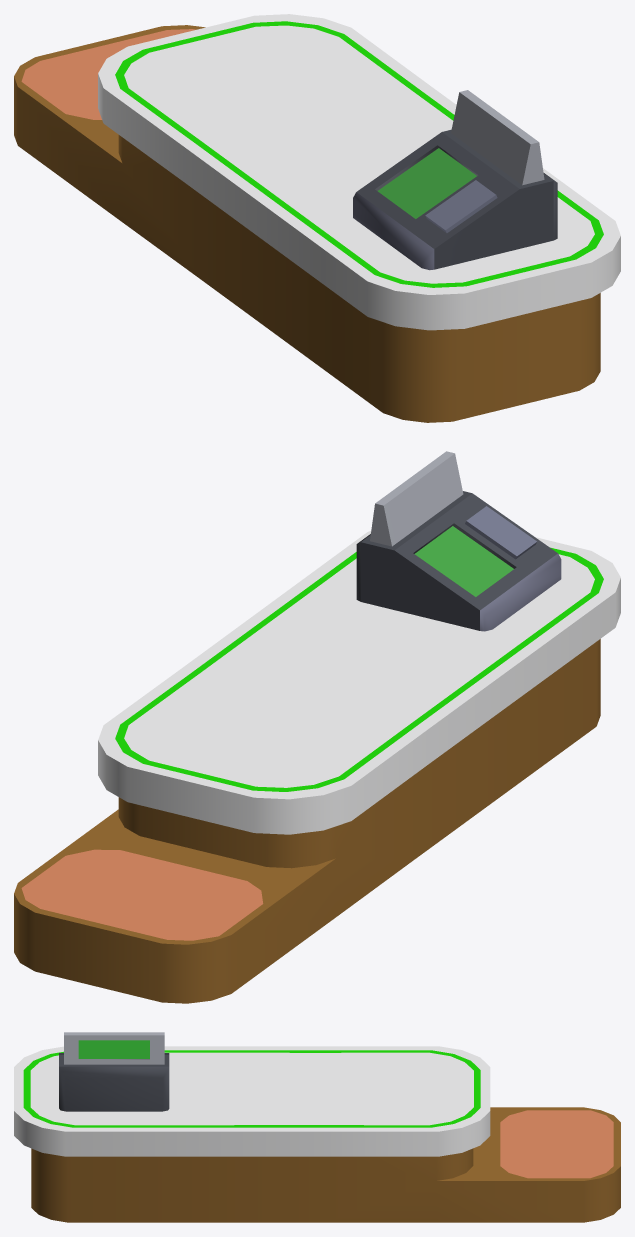
File: NF_Floor_Counter_A.fbx
3 views of the same model, one above another, from view 1: azimuth 30°, elevation 25°; view 2: azimuth 150°, elevation 25°; view 3: azimuth 270°, elevation 25° (orthographic). The views are drawn at different scales.
Visible parts, largest first — view 1: NF_Floor_Counter_A; view 2: NF_Floor_Counter_A; view 3: NF_Floor_Counter_A.
Boxes of the visible parts, x1=… form: NF_Floor_Counter_A: x1=14, y1=14, x2=620, y2=422; NF_Floor_Counter_A: x1=14, y1=451, x2=620, y2=1003; NF_Floor_Counter_A: x1=14, y1=1032, x2=620, y2=1222.
Bounding box in the file's own units: 1.1 × 1 × 3.3.
Materials: 1 (1 with a texture image).
